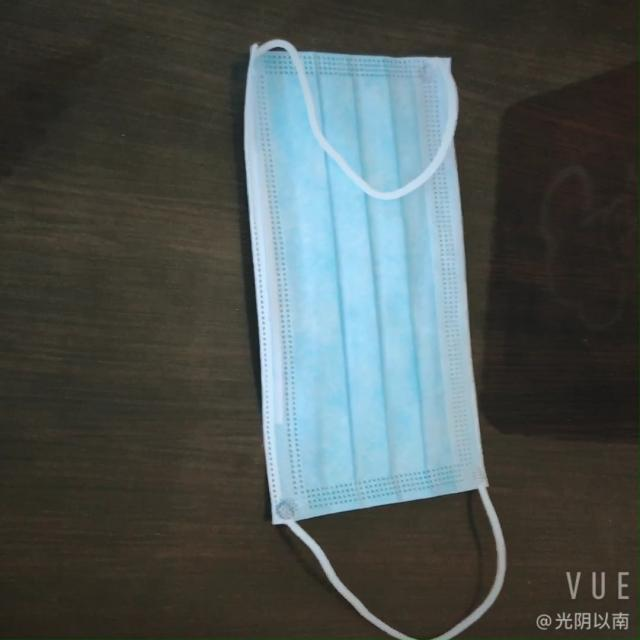non-organic waste: (236, 51, 480, 544)
